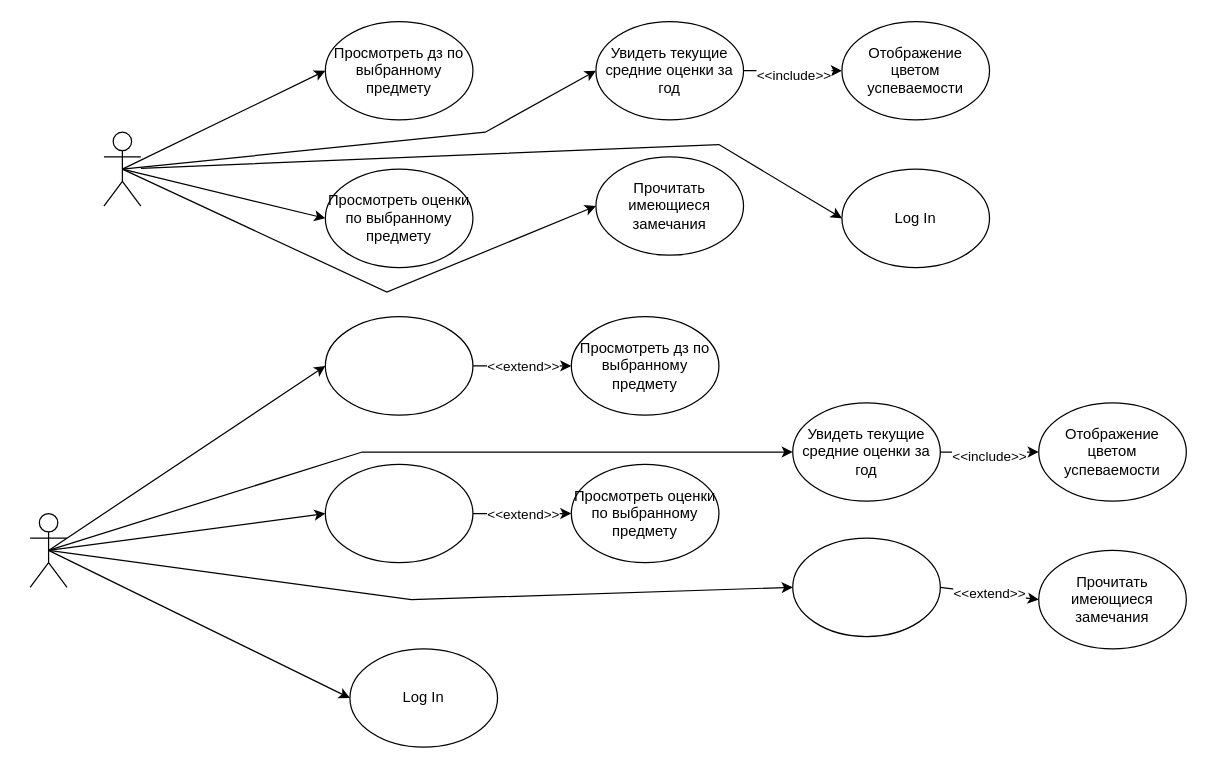
The diagram is 1208 pixels wide and 769 high, and some of its shapes have lost their labels. Here are the shapes that lost their labels. From the top down, the centre of each, then its label:
At [122,168]: "Ученик".
At [398,365]: "Выложить дз по своему предмету для выбранного класса".
At [398,513]: "Выставить оценки по выбранному предмету".
At [48,549]: "Учитель".
At [866,587]: "Оставить замечание к выбранному ученику".
